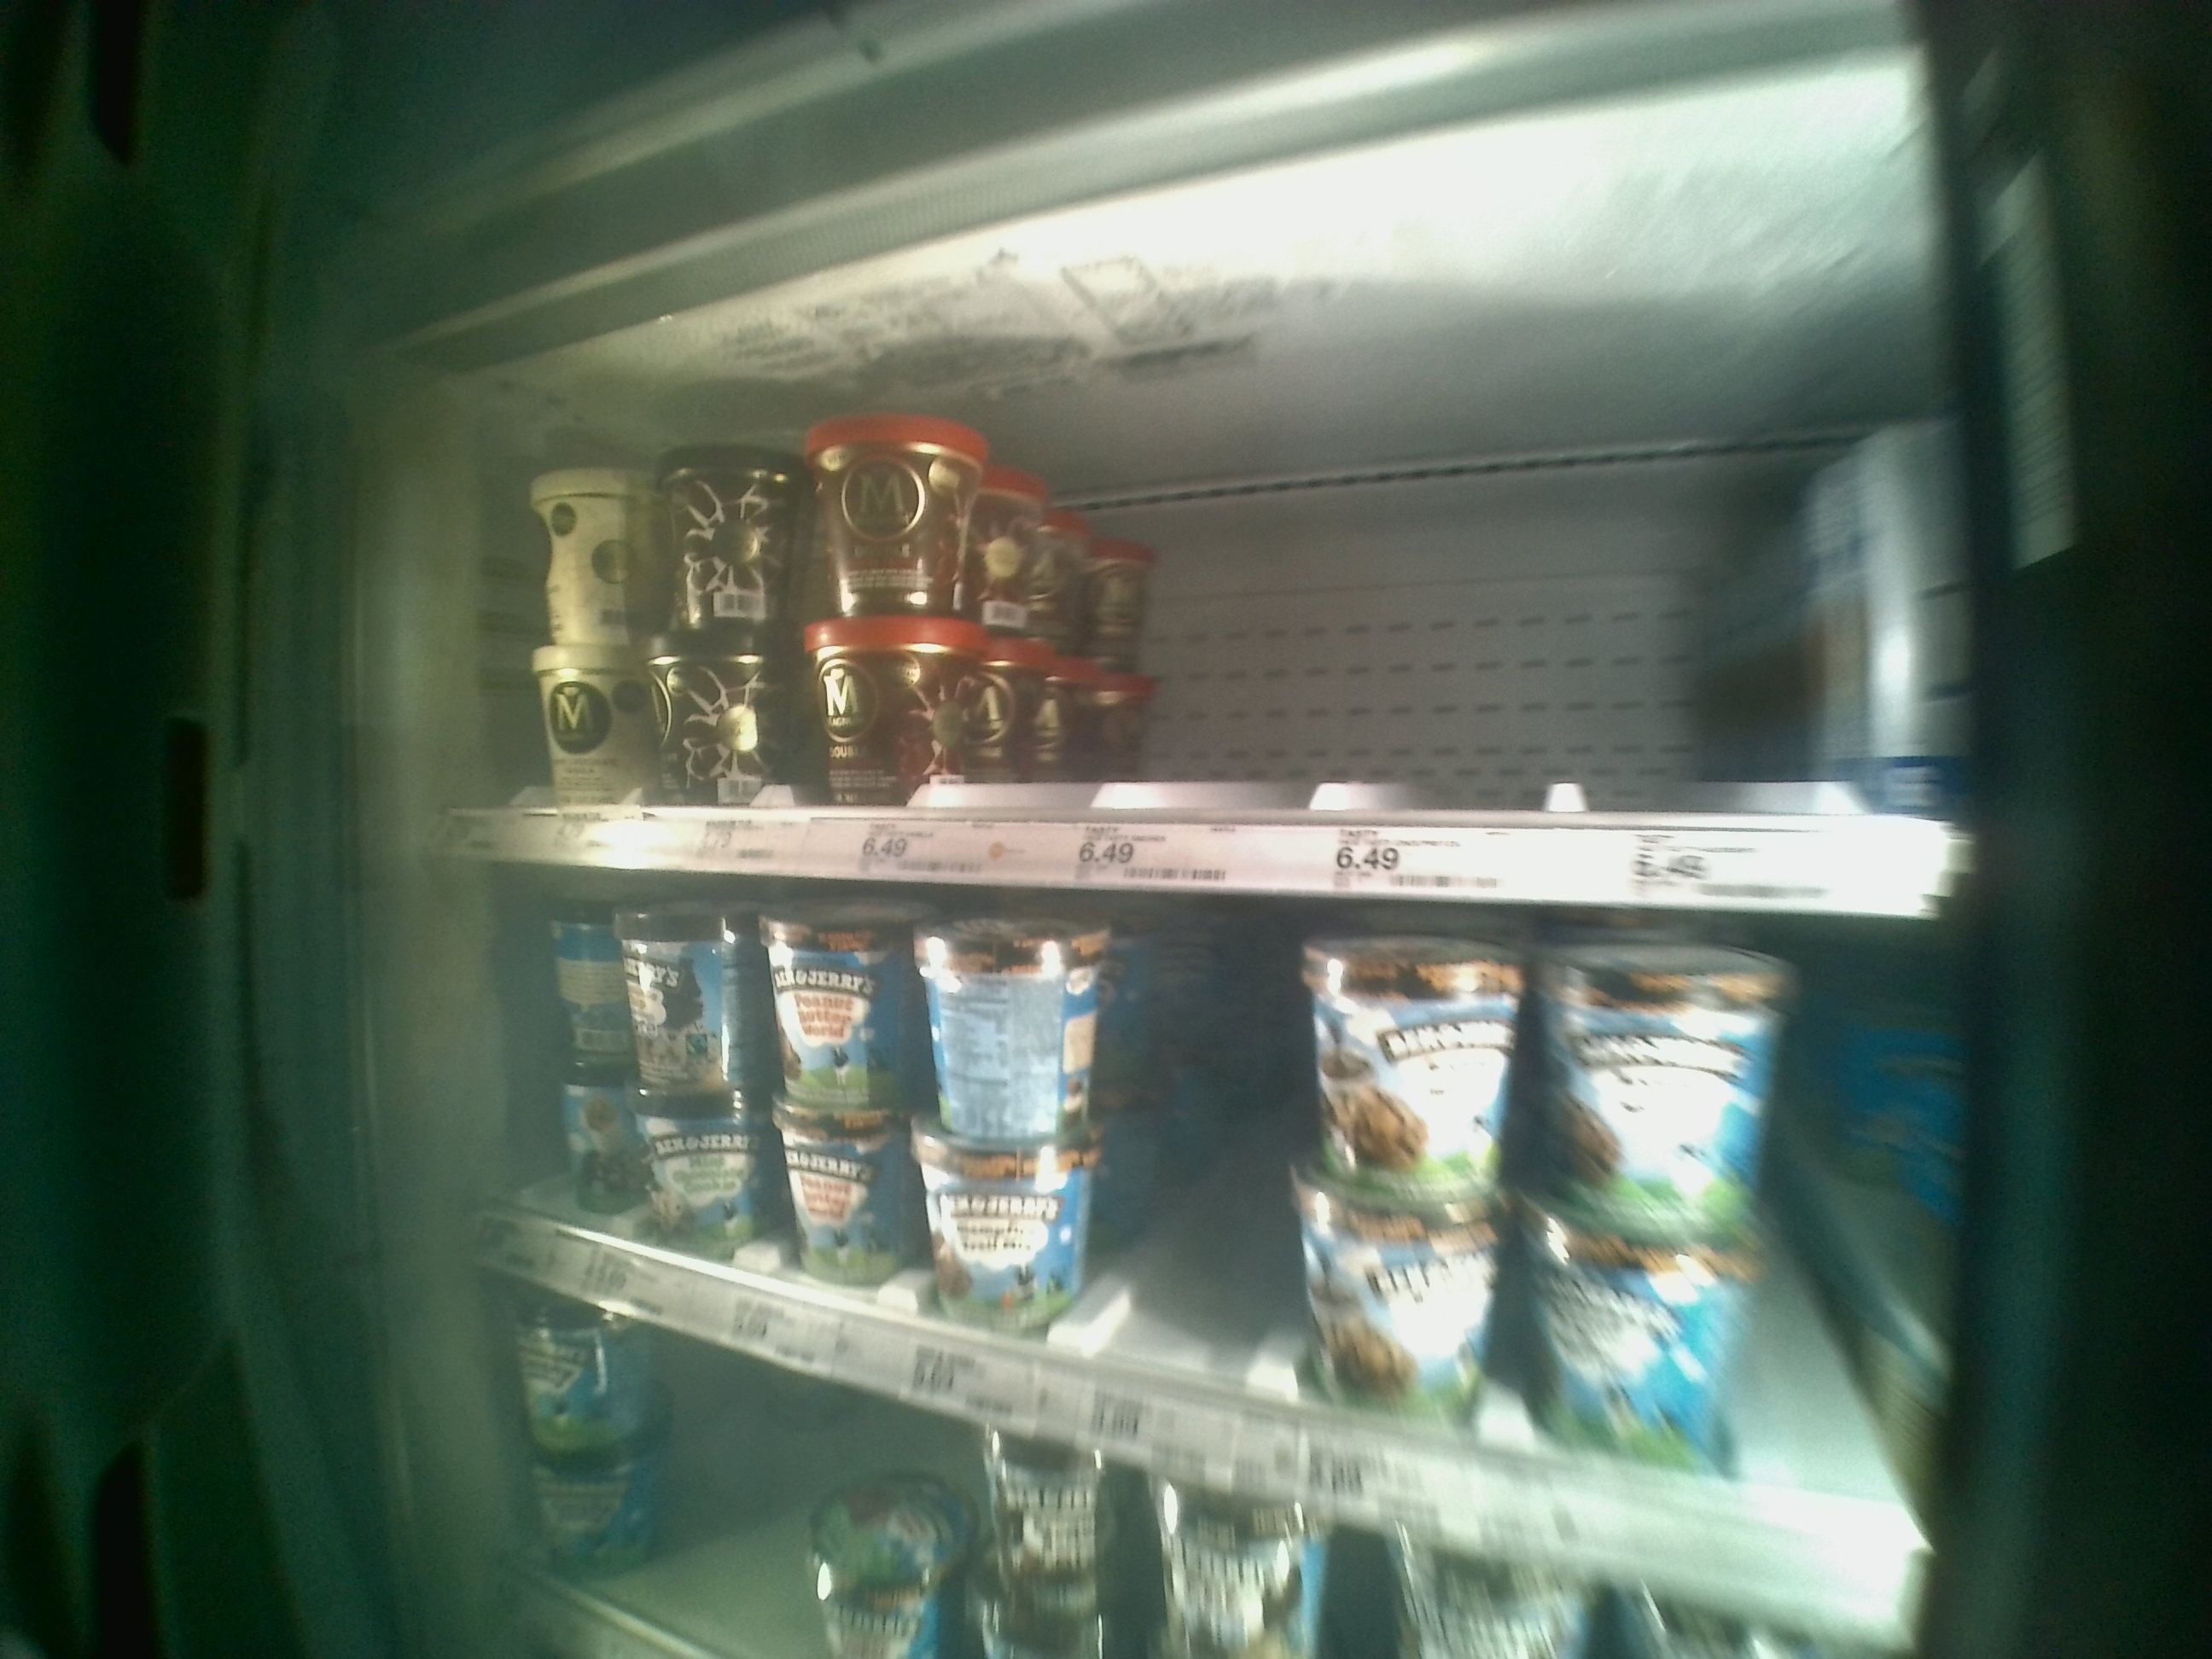shelf: (428, 342, 1959, 897)
